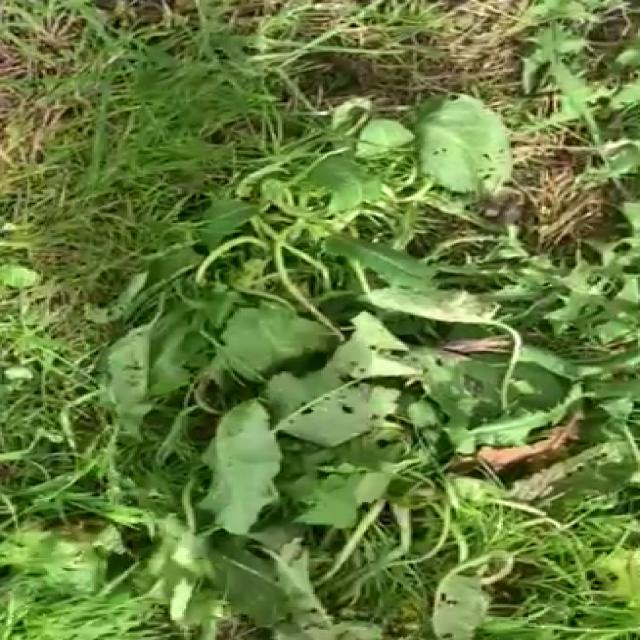organic waste: (0, 295, 560, 637), (127, 102, 640, 442)
